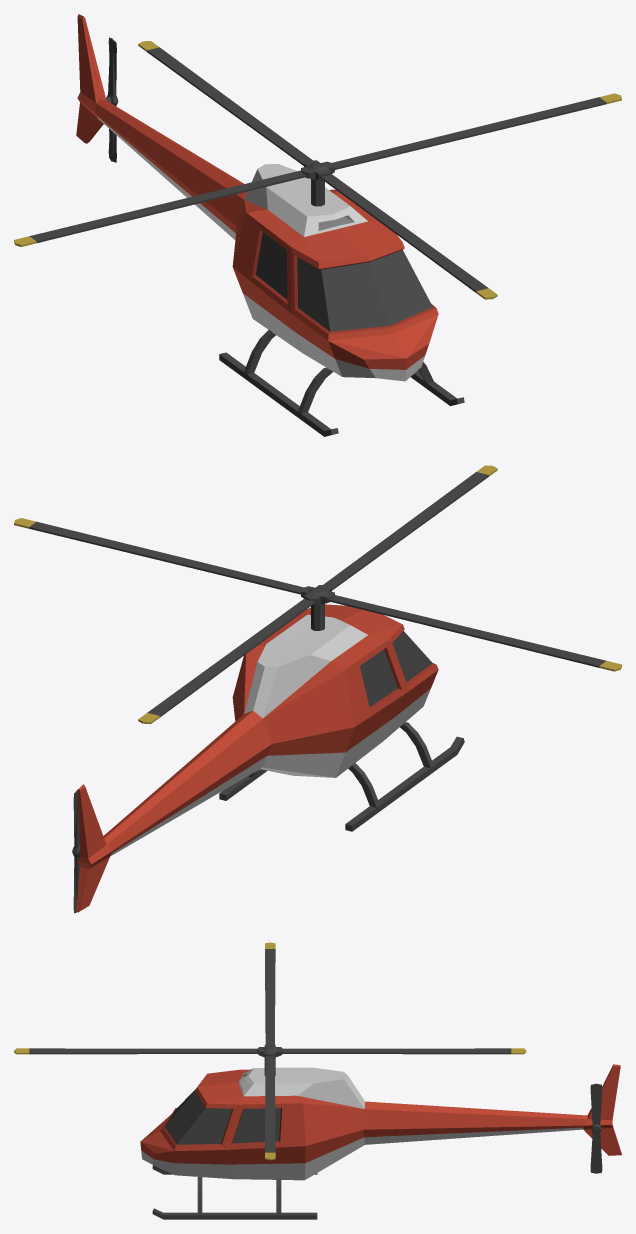
The model's file is Helicopter.fbx.
3 views of the same model, one above another, from view 1: azimuth 30°, elevation 25°; view 2: azimuth 150°, elevation 25°; view 3: azimuth 270°, elevation 25° (orthographic). The views are drawn at different scales.
Parts seen in each view (by area): view 1: Body, Propeler_Main, Propeler_Rear; view 2: Body, Propeler_Main, Propeler_Rear; view 3: Body, Propeler_Main, Propeler_Rear.
Part boxes in pixels (x1,y1,x2,y2): Body: (76,14,464,436); Propeler_Main: (14,41,621,299); Propeler_Rear: (106,37,118,162); Body: (76,604,464,911); Propeler_Main: (14,465,621,724); Propeler_Rear: (72,789,80,913); Body: (140,1064,621,1219); Propeler_Main: (14,942,526,1160); Propeler_Rear: (590,1083,602,1173).
Size of the model in its own units: 11.26 by 3.58 by 13.37.
